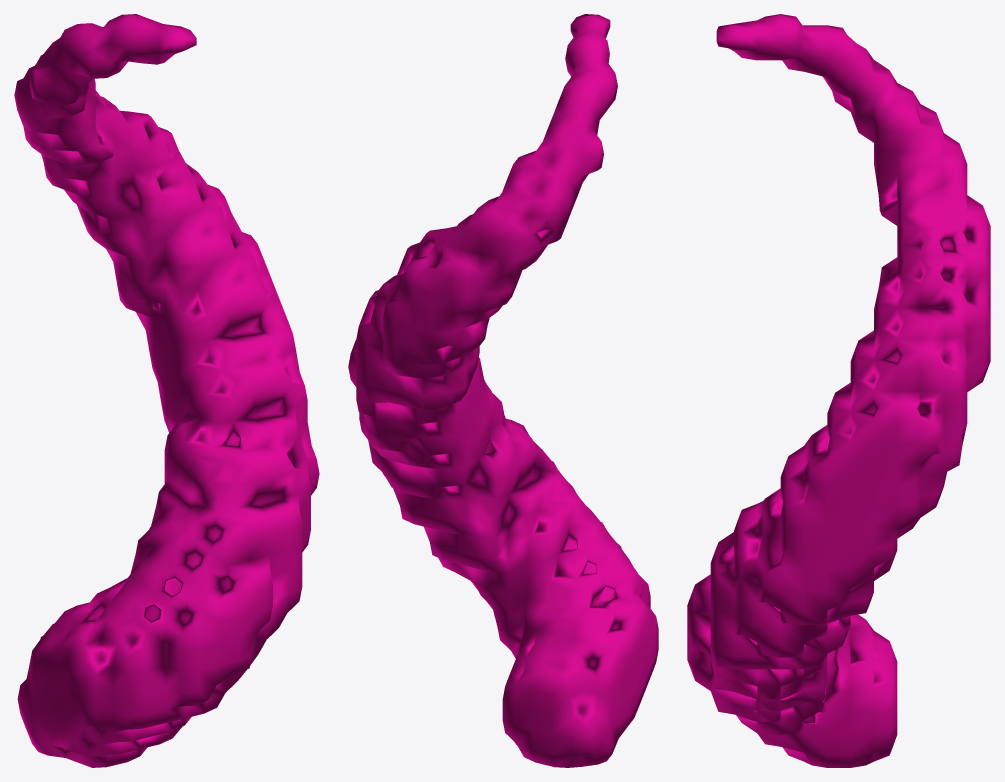
3 views of the same model, side by side, from view 1: azimuth 30°, elevation 25°; view 2: azimuth 150°, elevation 25°; view 3: azimuth 270°, elevation 25° (orthographic). The views are drawn at different scales.
Size of the model in its own units: 0.6 by 1.75 by 0.65.
